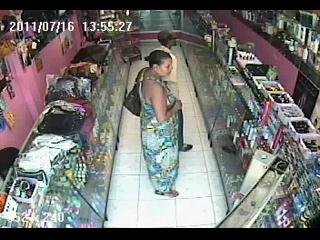Normal: (138, 49, 182, 198), (123, 67, 150, 116)
